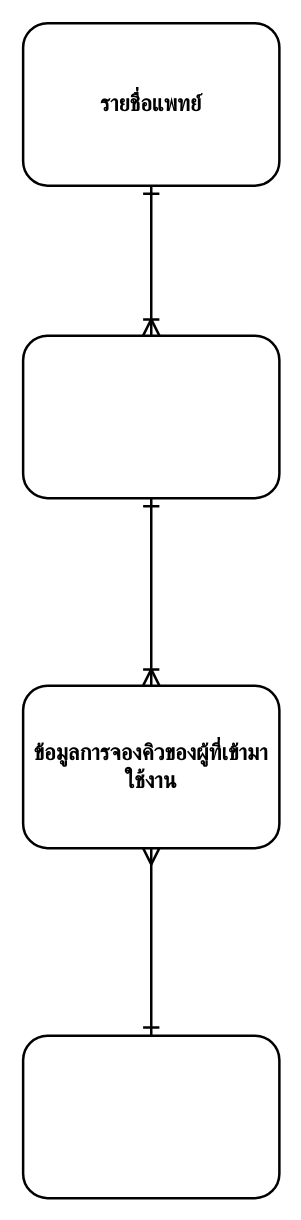
Image size: 301x1220. Some labels were removed from this diagram. Each missing label, with the centre of its shape:
"ผลตรวจ" belongs at point (150, 1116).
"ห้องในโรงพยาบาล" belongs at point (150, 416).
